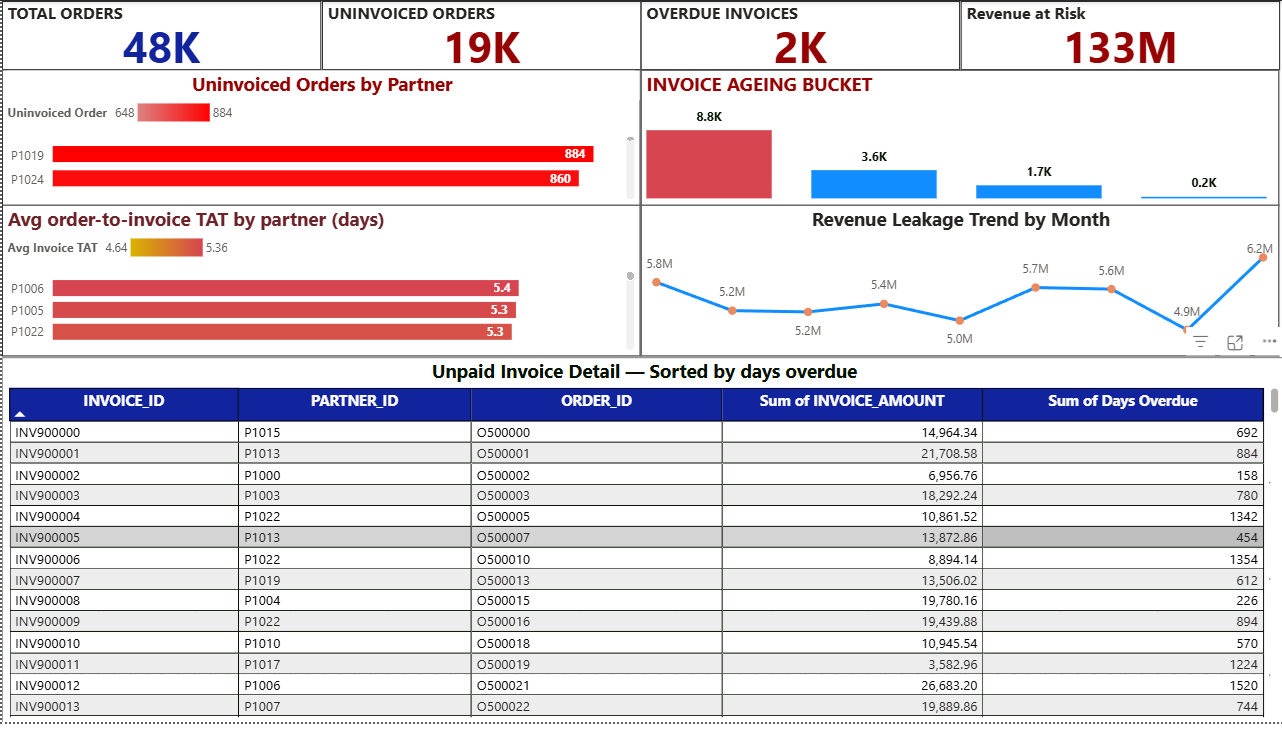

The dashboard page shown, as its layout file describes it:
{"tool":"powerbi","page":{"name":"Operations Control Tower","canvas":[1280,720],"ordinal":4},"visuals":[{"type":"card","title":"TOTAL ORDERS","fields":{"Values":["FACT_ORDERS.Total Orders"]},"box":[0,0,318.6,68.6],"z":0},{"type":"card","title":"UNINVOICED ORDERS","fields":{"Values":["FACT_INVOICES.Uninvoiced Order"]},"box":[318.6,0,318.6,68.6],"z":1000},{"type":"card","title":"OVERDUE INVOICES","fields":{"Values":["FACT_INVOICES.OVERDUE INVOICES"]},"box":[637.1,0,318.6,68.6],"z":2000},{"type":"card","title":"Revenue at Risk","fields":{"Values":["FACT_INVOICES.Revenue at Risk"]},"box":[955.7,0,318.6,68.6],"z":3000},{"type":"barChart","title":"Uninvoiced Orders by Partner","fields":{"Y":["FACT_INVOICES.Uninvoiced Order"],"Category":["DIM_PARTNERS (2).PARTNER_ID"]},"box":[0,68.6,637.1,135.7],"z":4000},{"type":"clusteredColumnChart","title":"INVOICE AGEING BUCKET","fields":{"Category":["FACT_INVOICES.Ageing Bucket"],"Y":["CountNonNull(FACT_INVOICES.INVOICE_ID)"]},"box":[637.1,68.6,637.1,135.7],"z":5000},{"type":"clusteredBarChart","title":"Avg order-to-invoice TAT by partner (days)","fields":{"Category":["FACT_INVOICES.PARTNER_ID"],"Y":["FACT_INVOICES.Avg Invoice TAT"]},"box":[0,203.6,637.1,151.3],"z":6000},{"type":"lineChart","title":"Revenue Leakage Trend by Month","fields":{"Y":["FACT_ORDERS.Revenue Leakage by Month"],"Category":["FACT_ORDERS.Order Month Sort"]},"box":[637.1,203.6,637.1,151.3],"z":7000},{"type":"tableEx","title":"Unpaid Invoice Detail — Sorted by days overdue","fields":{"Values":["FACT_INVOICES.INVOICE_ID","FACT_INVOICES.PARTNER_ID","FACT_INVOICES.ORDER_ID","Sum(FACT_INVOICES.INVOICE_AMOUNT)","Sum(FACT_INVOICES.Days Overdue)"]},"box":[0,354.9,1280,365.1],"z":8000}]}

Visuals, with their boxes in screenshot pixels (x1, y1, x2, y2), scaled from the page's 1280x720 canvas onto the 1282x730 screenshot:
"TOTAL ORDERS" card: rect(0, 0, 319, 70)
"UNINVOICED ORDERS" card: rect(319, 0, 638, 70)
"OVERDUE INVOICES" card: rect(638, 0, 957, 70)
"Revenue at Risk" card: rect(957, 0, 1276, 70)
"Uninvoiced Orders by Partner" barChart: rect(0, 70, 638, 207)
"INVOICE AGEING BUCKET" clusteredColumnChart: rect(638, 70, 1276, 207)
"Avg order-to-invoice TAT by partner (days)" clusteredBarChart: rect(0, 206, 638, 360)
"Revenue Leakage Trend by Month" lineChart: rect(638, 206, 1276, 360)
"Unpaid Invoice Detail — Sorted by days overdue" tableEx: rect(0, 360, 1281, 729)
